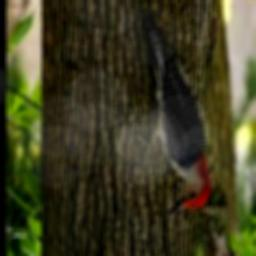Woodpecker: (137, 22, 210, 216)
